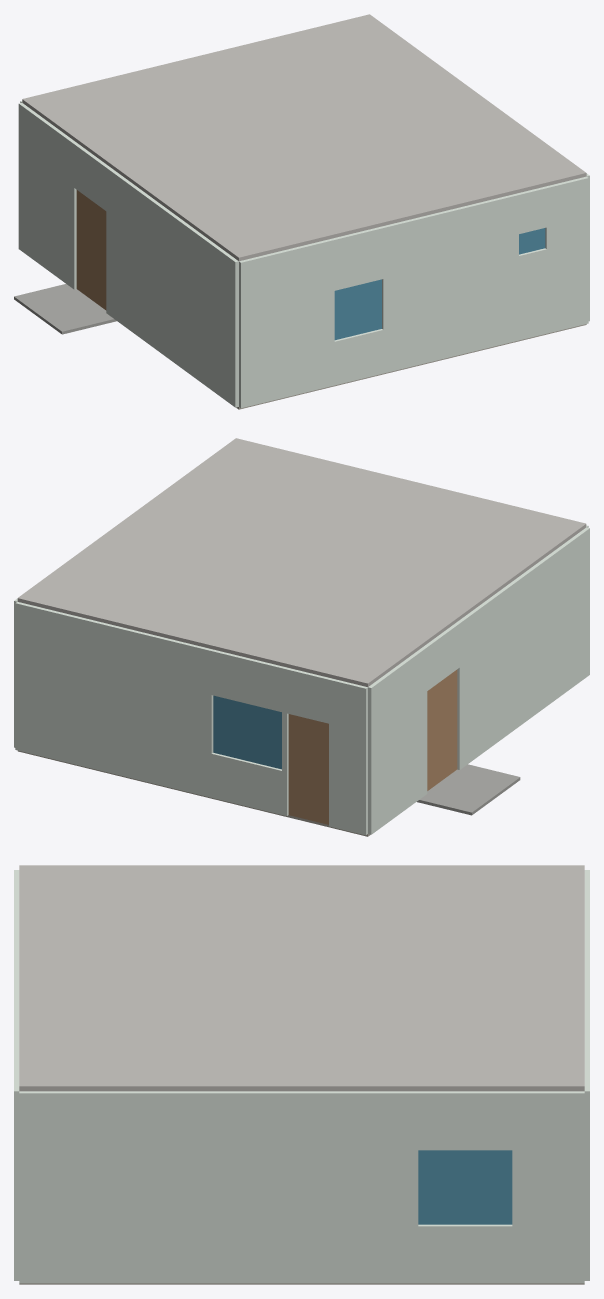
Rendered from 1BHK_08.glb.
3 views of the same model, one above another, from view 1: azimuth 30°, elevation 25°; view 2: azimuth 150°, elevation 25°; view 3: azimuth 270°, elevation 25° (orthographic). The views are drawn at different scales.
Parts seen in each view (by area): view 1: Roof, Wall_W003, Wall_W001, Wall_W007, Wall_W002, Door_D_BAL_01, Balcony_BAL_MAIN, Window_WN02, Window_WN04, Floor; view 2: Roof, Wall_W012, Wall_W007, Wall_W011, Wall_W002, Door_D_ENTRY, Window_WN01, Door_D_BAL_01, Balcony_BAL_MAIN, Floor; view 3: Roof, Wall_W010, Wall_W005, Window_WN03, Wall_W003, Wall_W012, Floor, Wall_W001, Wall_W011.
Boxes of the visible parts, x1,y1,x2,y2 form: Roof: (22,14,586,261); Wall_W003: (413,176,588,365); Wall_W001: (239,219,414,408); Wall_W007: (18,103,164,353); Wall_W002: (161,207,238,407); Door_D_BAL_01: (76,190,106,310); Balcony_BAL_MAIN: (14,284,116,334); Window_WN02: (334,279,381,340); Window_WN04: (519,228,545,254); Floor: (236,324,586,409); Roof: (17,438,586,686); Wall_W012: (15,602,192,792); Wall_W007: (368,581,515,834); Wall_W011: (190,644,367,835); Wall_W002: (512,527,589,728); Door_D_ENTRY: (288,714,328,824); Window_WN01: (213,695,281,769); Door_D_BAL_01: (427,669,457,790); Balcony_BAL_MAIN: (417,764,520,815); Floor: (18,750,370,836); Roof: (19,865,584,1091); Wall_W010: (211,1091,584,1283); Wall_W005: (19,1091,211,1283); Window_WN03: (418,1150,512,1224); Wall_W003: (14,980,19,1280); Wall_W012: (584,980,589,1280); Floor: (19,1283,584,1284); Wall_W001: (14,870,19,980); Wall_W011: (584,870,589,980).
Bounding box in the file's own units: 8.92 × 3.18 × 8.38.
